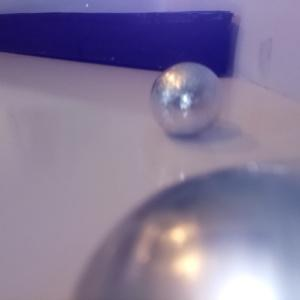zone: (1, 11, 234, 79)
